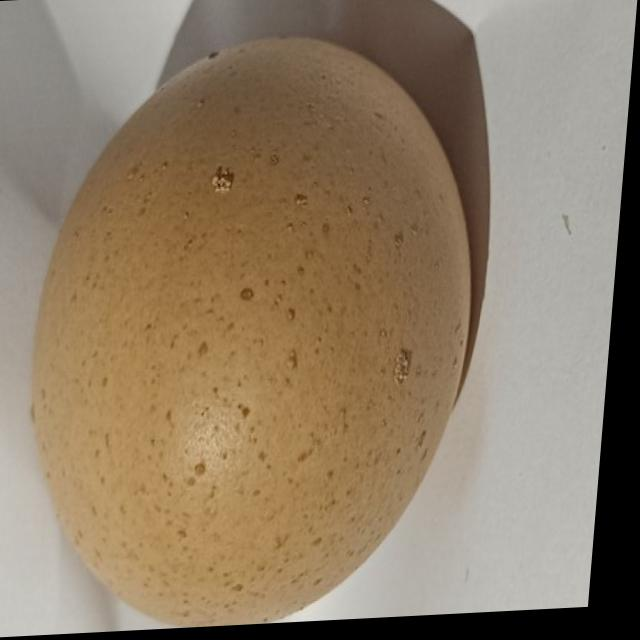unfresh: (7, 14, 511, 638)
